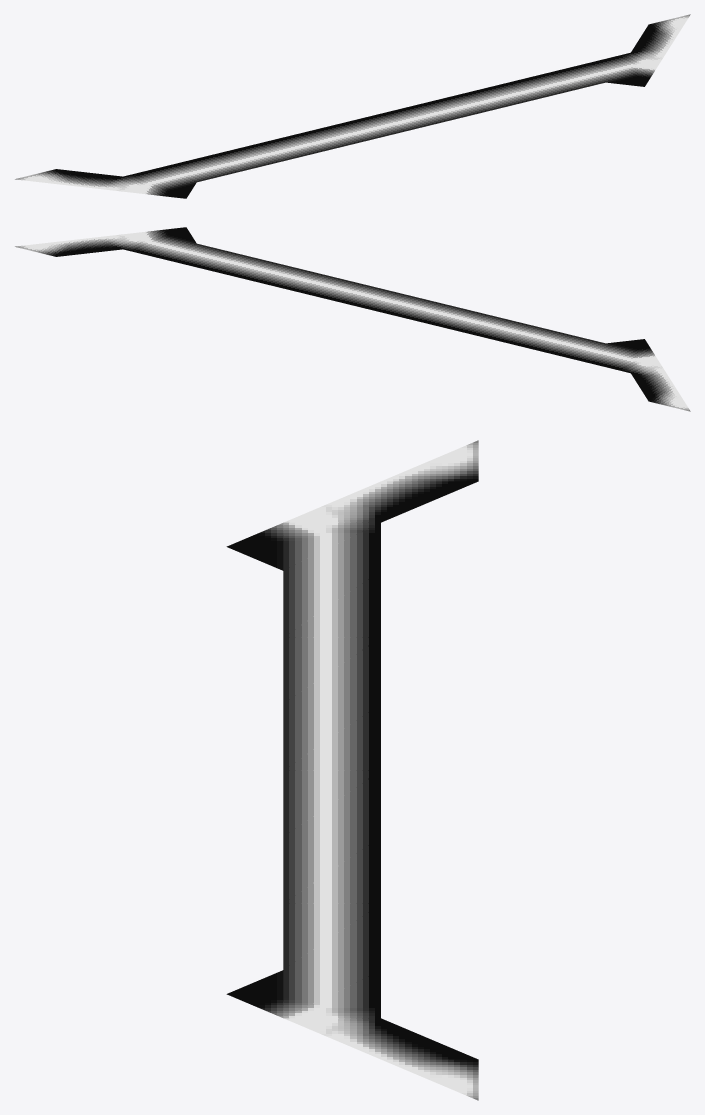
The model's file is box_ring__box_rope_kage.glb.
3 renders of one model, top to bottom at view 1: azimuth 30°, elevation 25°; view 2: azimuth 150°, elevation 25°; view 3: azimuth 270°, elevation 25°, orthographic. The views are drawn at different scales.
Visible parts, largest first — view 1: polygon0; view 2: polygon0; view 3: polygon0.
Part boxes in pixels (x1,y1,x2,y2): polygon0: (15,14,690,198); polygon0: (15,227,690,411); polygon0: (226,440,478,1100).
Size of the model in its own units: 72 by 3.8e-07 by 11.62.
Materials: 1 (1 with a texture image).
